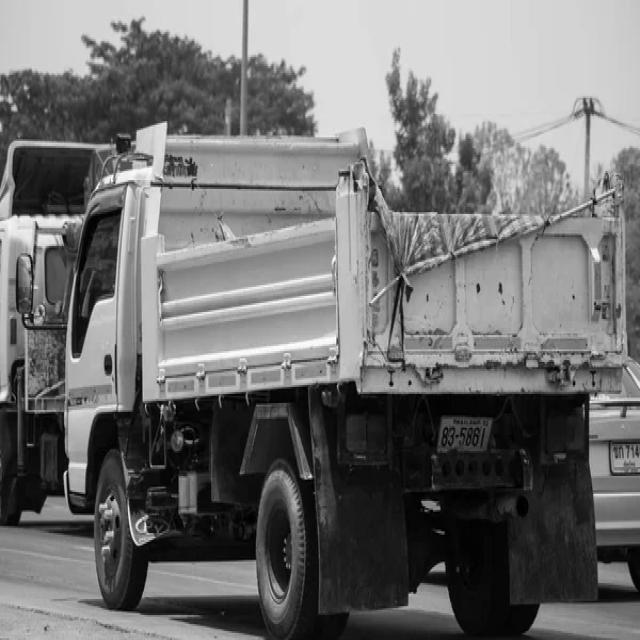Car: (591, 360, 640, 591)
Truck: (58, 123, 629, 637), (0, 141, 96, 525)
